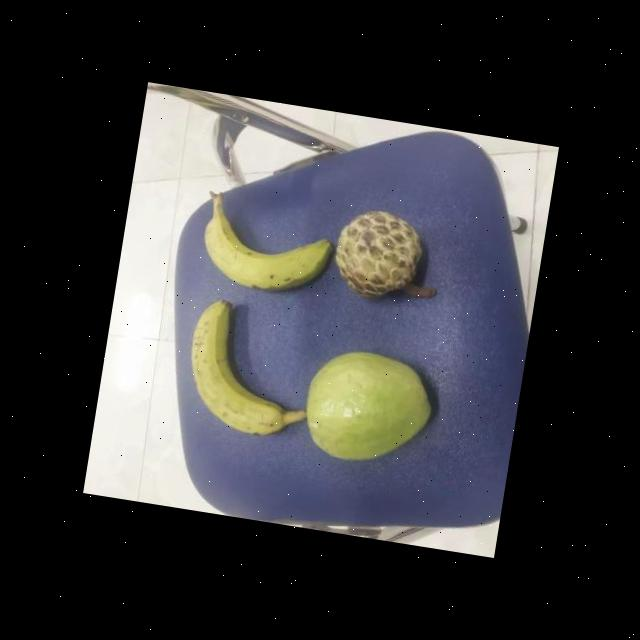Sakya fruit: (326, 202, 428, 306)
banana: (175, 290, 313, 444), (191, 198, 336, 304)
guava: (293, 340, 440, 477)
